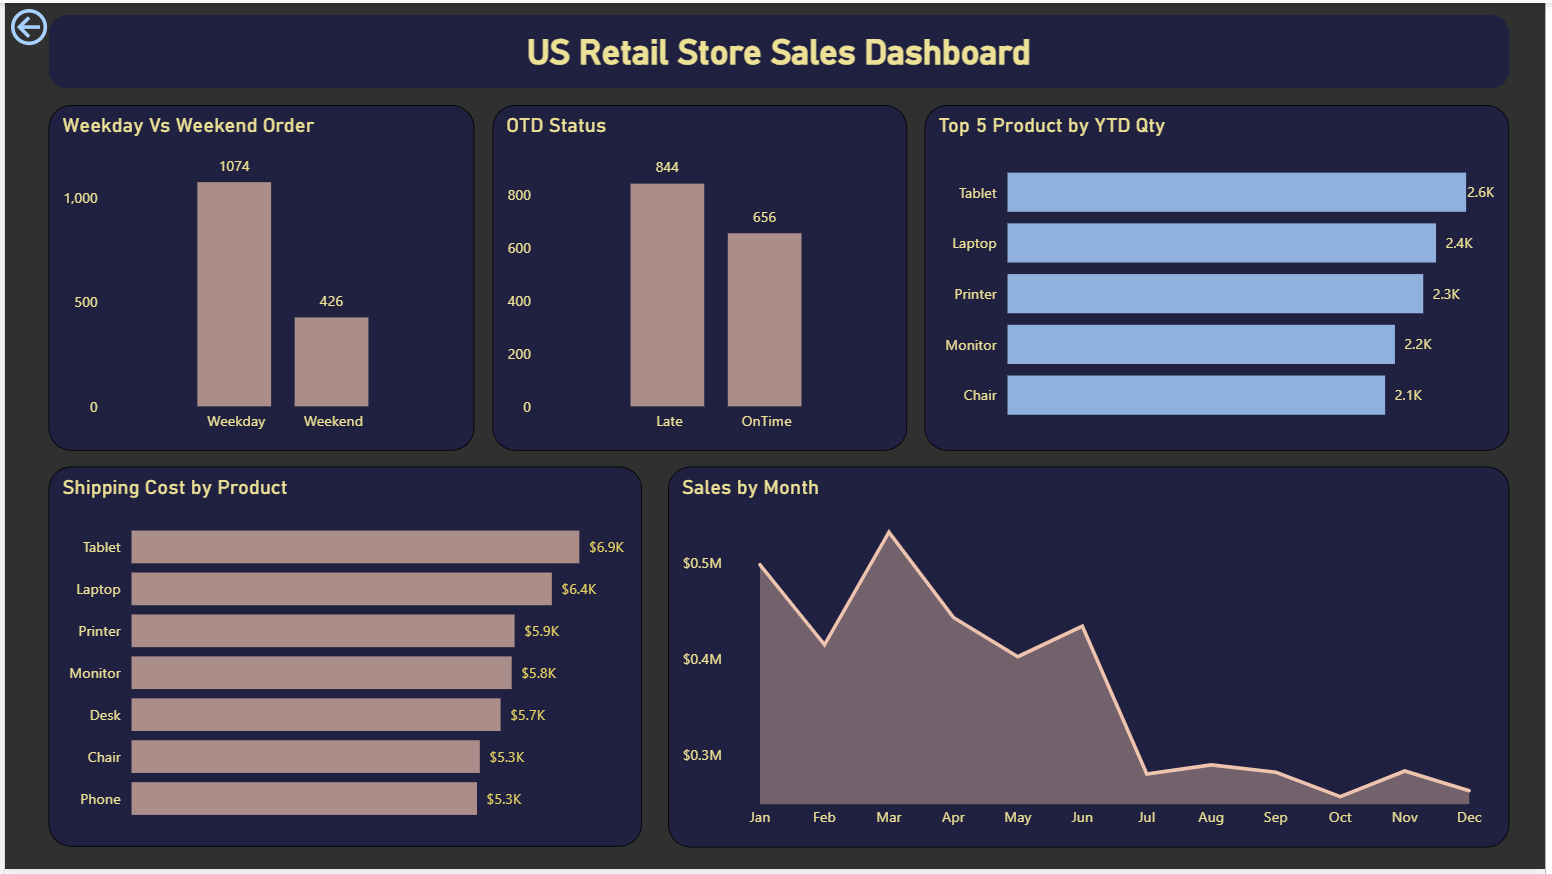

What the dashboard file says about the page in this screenshot:
{"tool":"powerbi","page":{"name":"OTD Status","canvas":[1280,720],"ordinal":1},"visuals":[{"type":"shape","title":"Walmart Sales Dashboard","box":[83.2,10.6,1186.2,60.5],"z":0},{"type":"columnChart","title":"Weekday Vs Weekend Order","fields":{"Category":["Sales Data.Visit day Type"],"Y":["CountNonNull(Sales Data.OrderID)"]},"box":[36.3,84.7,354,287.5],"z":1000},{"type":"barChart","title":"Top 5 Product  by YTD  Qty","fields":{"Category":["Sales Data.Product"],"Y":["Sum(Sales Data.Quantity)"]},"box":[764.1,84.7,485.7,287.5],"z":2000},{"type":"areaChart","title":"Sales by Month","fields":{"Y":["Key Measure.Total Sales Amount"],"Category":["Calender.MonthName"]},"box":[550.7,385.8,718.7,316.2],"z":3000},{"type":"columnChart","title":"OTD Status","fields":{"Y":["CountNonNull(Sales Data.OrderID)"],"Category":["Sales Data.Ontime status"]},"box":[405.5,84.7,345,287.5],"z":4000},{"type":"actionButton","box":[0,0,100,40],"z":5000},{"type":"clusteredBarChart","title":"Shipping Cost by Product ","fields":{"Category":["Sales Data.Product"],"Y":["Sum(Sales Data.ShippingCost)"]},"box":[36.3,385.8,493.2,316.2],"z":6000}]}

Visuals, with their boxes in screenshot pixels (x1, y1, x2, y2), scaled from the page's 1280x720 canvas onto the 1552x874 screenshot:
"Walmart Sales Dashboard" shape: bbox(101, 13, 1539, 86)
"Weekday Vs Weekend Order" columnChart: bbox(44, 103, 473, 452)
"Top 5 Product  by YTD  Qty" barChart: bbox(926, 103, 1515, 452)
"Sales by Month" areaChart: bbox(668, 468, 1539, 852)
"OTD Status" columnChart: bbox(492, 103, 910, 452)
actionButton: bbox(0, 0, 121, 49)
"Shipping Cost by Product " clusteredBarChart: bbox(44, 468, 642, 852)
